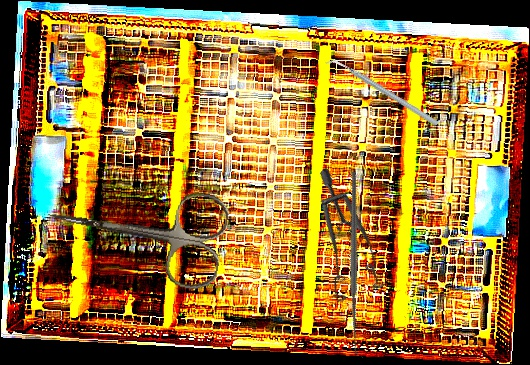Chopper: (324, 27, 441, 158)
Hook Surgical: (274, 171, 442, 358)
Iris Scissors: (39, 165, 232, 294)
Speculum: (264, 167, 413, 317)
